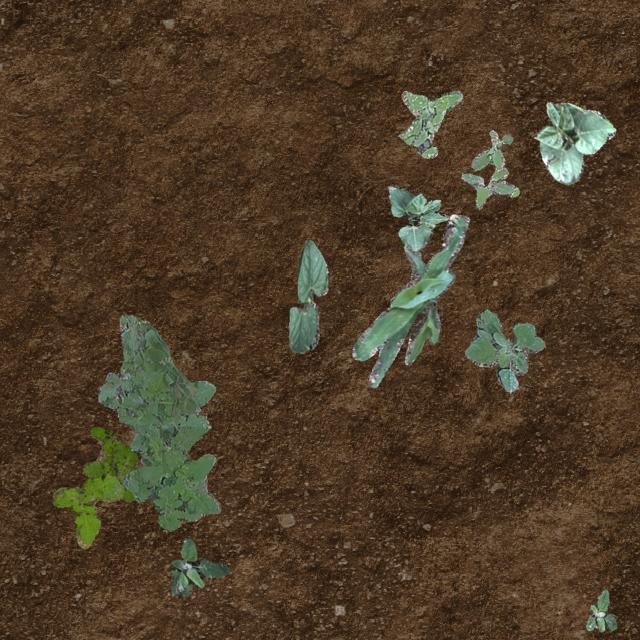crop: (351, 214, 468, 386), (532, 100, 614, 184), (286, 238, 328, 352), (386, 184, 448, 250)
weed: (98, 314, 220, 528), (464, 308, 544, 392), (50, 472, 124, 548), (460, 130, 518, 208), (398, 90, 462, 158), (82, 426, 138, 501), (170, 536, 228, 596), (586, 588, 616, 630)
